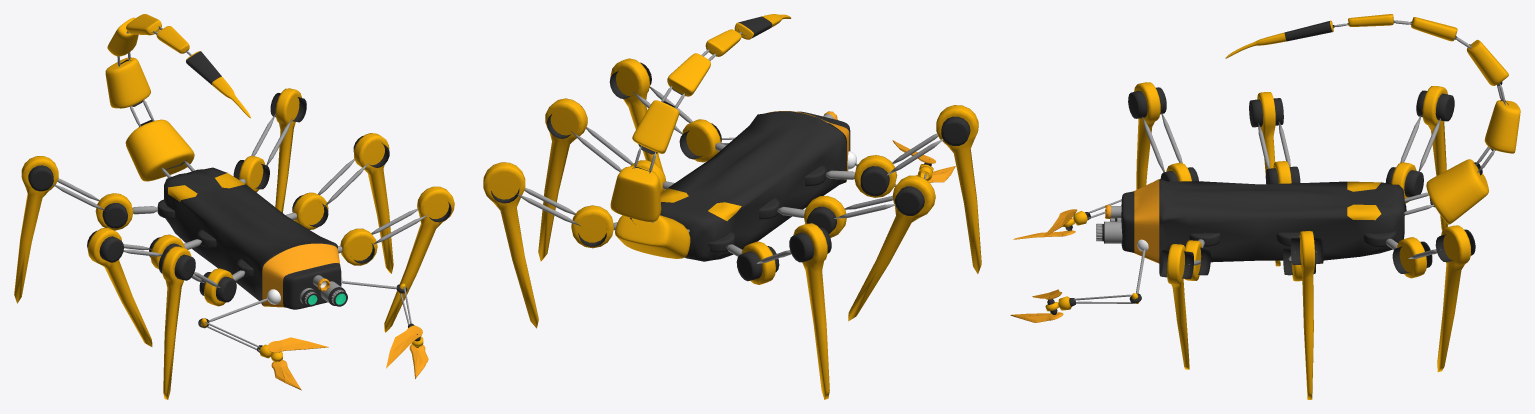
Rendered from RoboticScorpion.fbx.
3 renders of one model, left to right at view 1: azimuth 30°, elevation 25°; view 2: azimuth 150°, elevation 25°; view 3: azimuth 270°, elevation 25°, orthographic. The views are drawn at different scales.
Visible parts, largest first — view 1: RoboticScorpion; view 2: RoboticScorpion; view 3: RoboticScorpion.
Part boxes in pixels (<box>): RoboticScorpion: <box>14,14,454,399</box>; RoboticScorpion: <box>483,14,981,399</box>; RoboticScorpion: <box>1010,14,1520,399</box>.
Size of the model in its own units: 0.1191 by 0.0937 by 0.1495.
